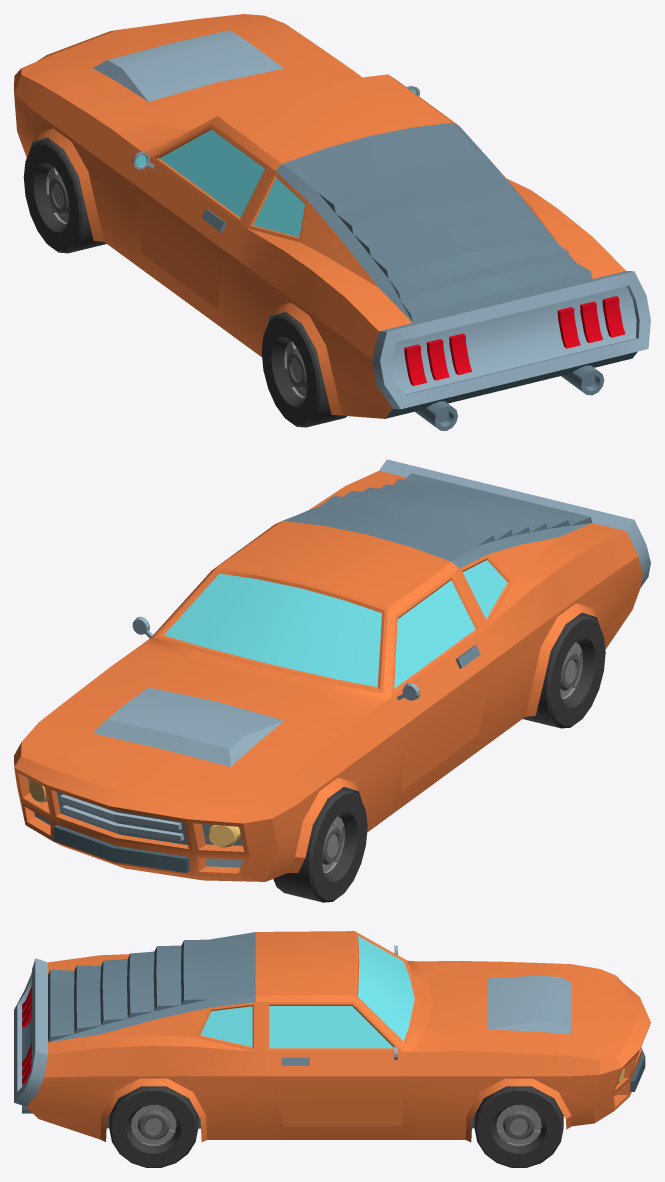
The model's file is Car_4.fbx.
The picture shows the model from 3 angles, top to bottom: view 1: azimuth 30°, elevation 25°; view 2: azimuth 150°, elevation 25°; view 3: azimuth 270°, elevation 25°; orthographic projection. The views are drawn at different scales.
Parts seen in each view (by area): view 1: Body, Hood, Door_Left, Wheel_BackLeft, Wheel_ForwardLeft; view 2: Body, Hood, Door_Left, Wheel_ForwardLeft, Wheel_BackLeft; view 3: Body, Door_Right, Hood, Wheel_ForwardRight, Wheel_BackRight.
Boxes of the visible parts, <box> form: Body: <box>14,14,650,430</box>; Hood: <box>47,20,327,129</box>; Door_Left: <box>132,124,268,309</box>; Wheel_BackLeft: <box>261,313,347,427</box>; Wheel_ForwardLeft: <box>23,139,106,253</box>; Body: <box>14,459,650,881</box>; Hood: <box>47,658,327,795</box>; Door_Left: <box>391,574,493,791</box>; Wheel_ForwardLeft: <box>273,788,367,902</box>; Wheel_BackLeft: <box>523,613,605,728</box>; Body: <box>14,931,650,1141</box>; Door_Right: <box>265,1002,403,1126</box>; Hood: <box>427,969,618,1049</box>; Wheel_ForwardRight: <box>474,1086,563,1167</box>; Wheel_BackRight: <box>109,1086,198,1167</box>.
Bounding box in the file's own units: 2.1 × 5.23 × 1.42.
